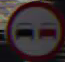No overtake: (6, 4, 59, 53)
